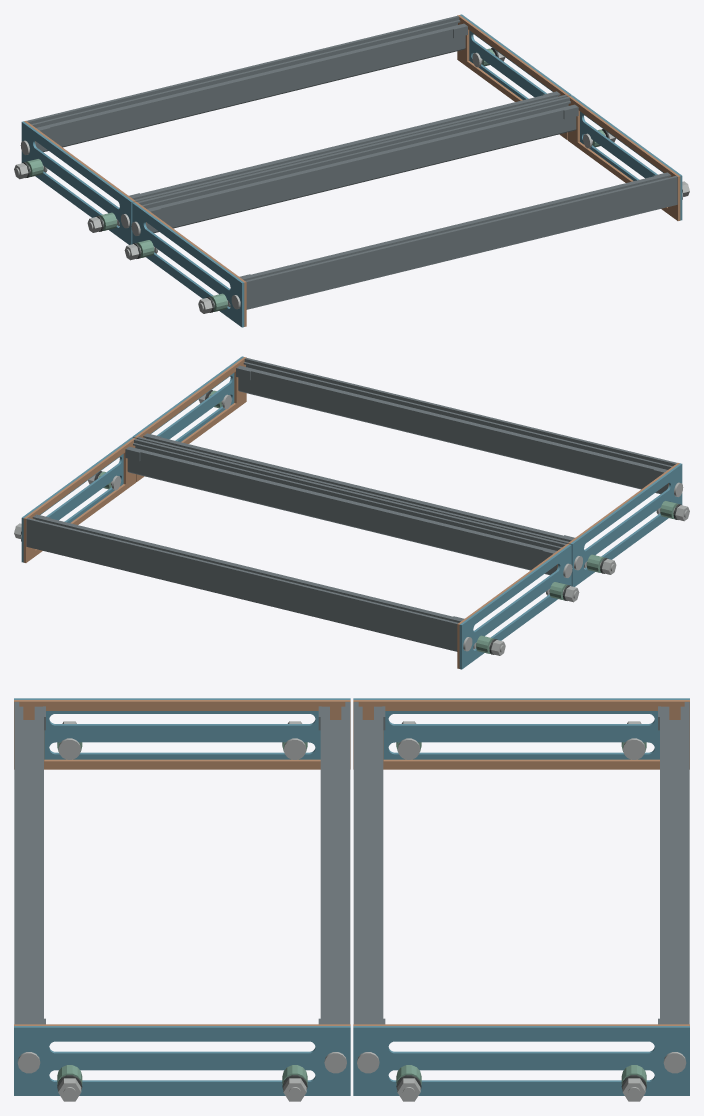
Rendered from B-frame-TW-01.glb.
3 views of the same model, one above another, from view 1: azimuth 30°, elevation 25°; view 2: azimuth 150°, elevation 25°; view 3: azimuth 270°, elevation 25° (orthographic). The views are drawn at different scales.
Visible parts, largest first — view 1: base; view 2: base; view 3: base.
Boxes of the visible parts, x1,y1,x2,y2 form: base: (14,14,689,327); base: (14,356,689,669); base: (14,698,689,1101).
Bounding box in the file's own units: 0.344 × 0.03 × 0.2701.
